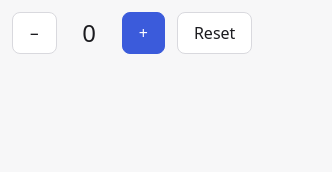
Scenario: Counter › increments and decrements by step
Click the button named "Increment". click: (143, 33)
box: [122,12,165,54]
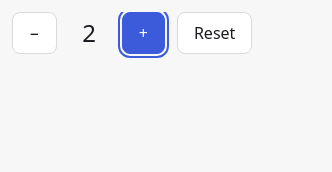
Click the button named "Increment". click: (143, 33)
box: [122,12,165,54]
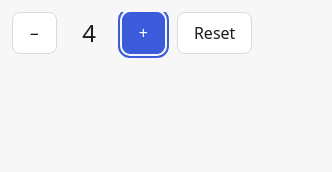
Check: the text named "Current count" reads "4", box [82,16,96,49]
Click the button named "Decrement". click: (34, 33)
box: [12,12,57,54]
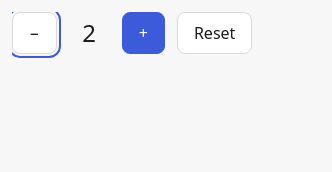
Check: the text named "Current count" reads "2", box [82,16,96,49]
